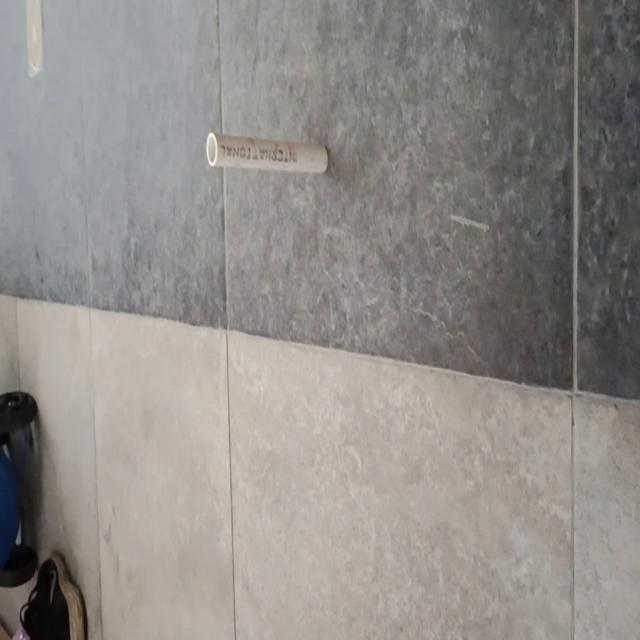Cube: (205, 129, 329, 175)
